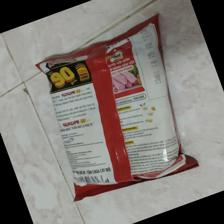Kokomi: (34, 15, 199, 200)
